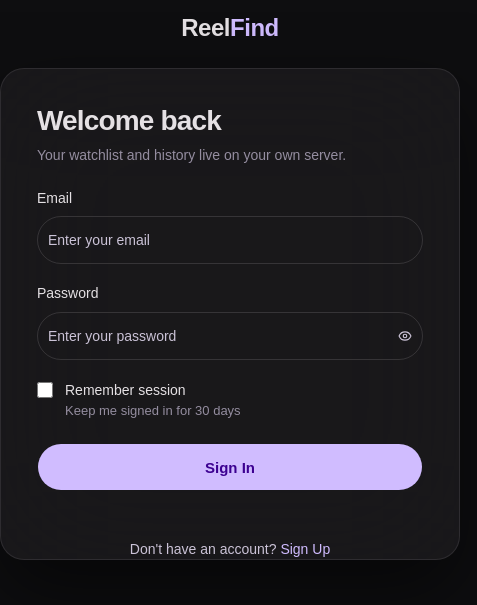
it: AuthForm (sign-in) › rejects a password shorter than the schema allows
Type "viewer@reelfind.test" into the field labelled "Email". click: x=230, y=240
box: 38,224 -> 422,256
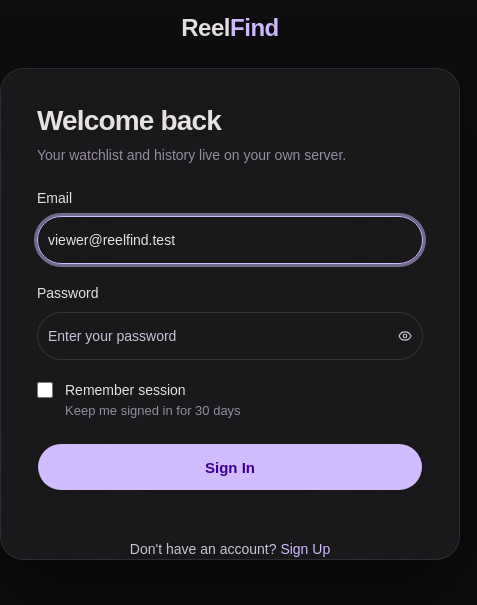
Type "abc" into the password field labelled "Password". click: x=214, y=336
box: 38,320 -> 391,352
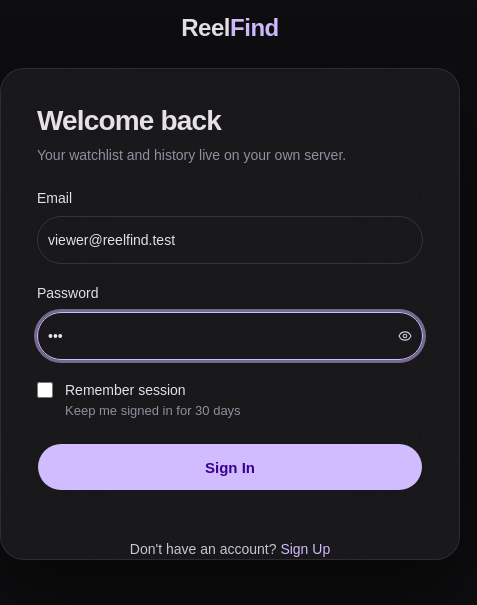
Click the button "Sign In". click: x=230, y=467
box: 37,443 -> 423,491
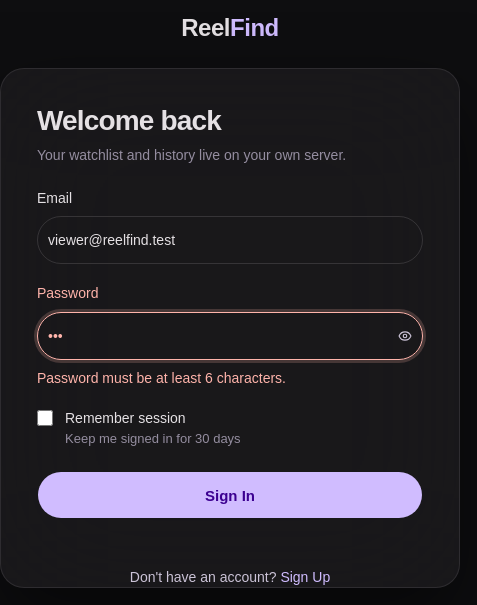
Result: the text "Password must be at least 6 characters." is shown at 37,370 -> 286,386
